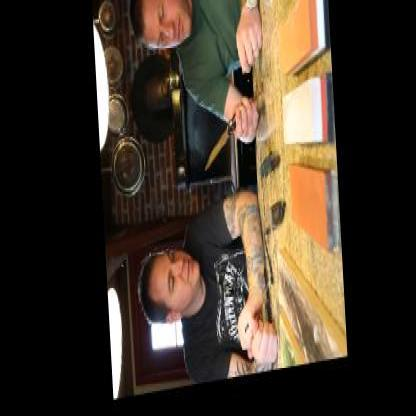knife: (193, 101, 254, 185)
